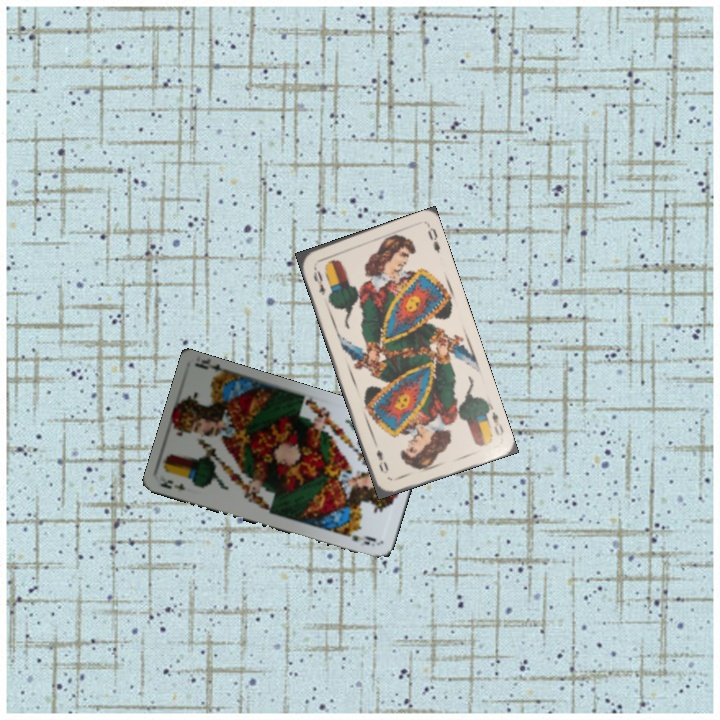EK: (156, 476, 188, 493)
EO: (481, 401, 506, 439), (309, 262, 328, 298)
